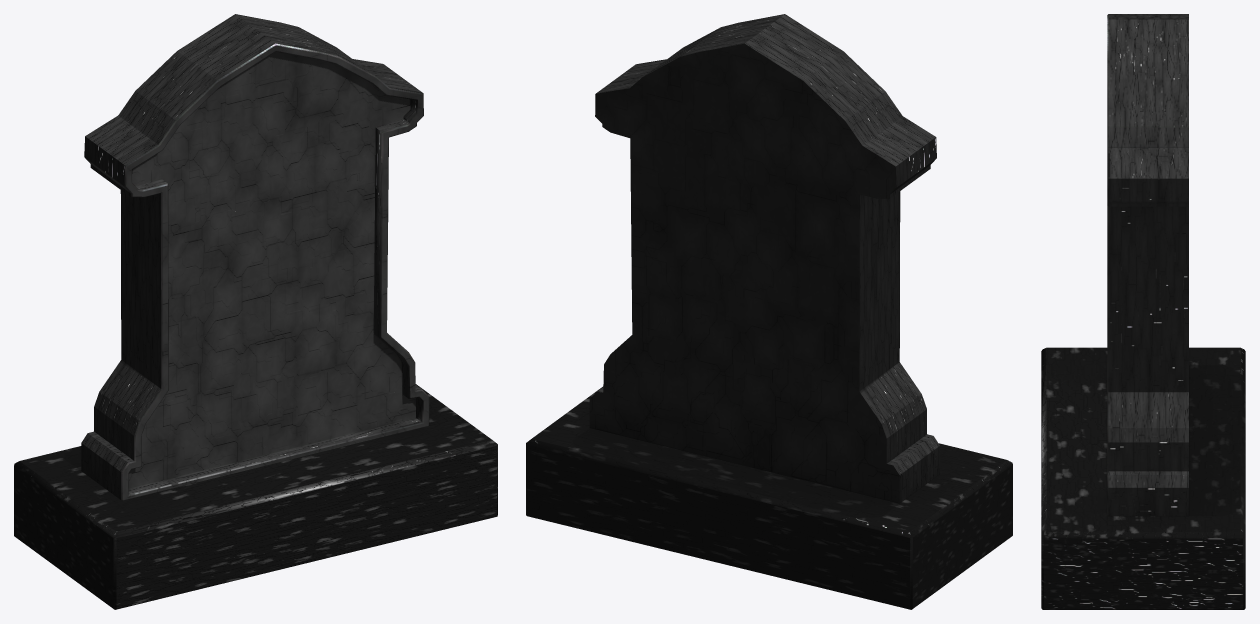
The model's file is Grave1.fbx.
The picture shows the model from 3 angles, left to right: view 1: azimuth 30°, elevation 25°; view 2: azimuth 150°, elevation 25°; view 3: azimuth 270°, elevation 25°; orthographic projection.
Parts seen in each view (by area): view 1: Extrude_6.002, Cube_3.002; view 2: Extrude_6.002, Cube_3.002; view 3: Extrude_6.002, Cube_3.002.
Boxes of the visible parts, x1=… form: Extrude_6.002: x1=81, y1=14, x2=429, y2=500; Cube_3.002: x1=14, y1=384, x2=497, y2=609; Extrude_6.002: x1=589, y1=14, x2=939, y2=503; Cube_3.002: x1=526, y1=386, x2=1012, y2=609; Extrude_6.002: x1=1107, y1=14, x2=1188, y2=516; Cube_3.002: x1=1041, y1=347, x2=1245, y2=609.
Bounding box in the file's own units: 111 × 136 × 50.6.
Materials: 2 (2 with a texture image).
